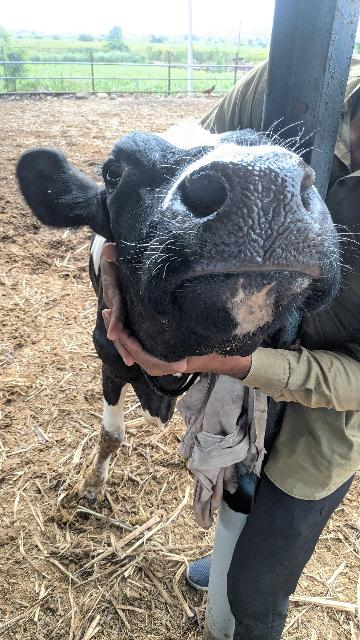Muzzle: (187, 146, 337, 270)
